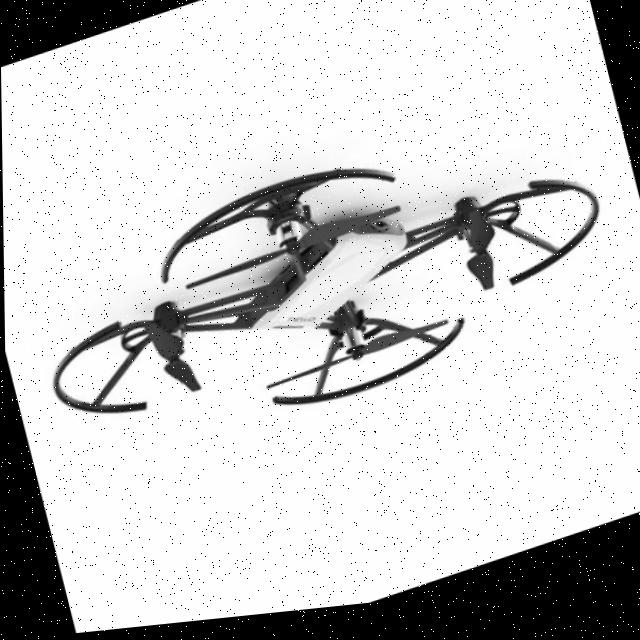drones: (16, 71, 637, 499)
